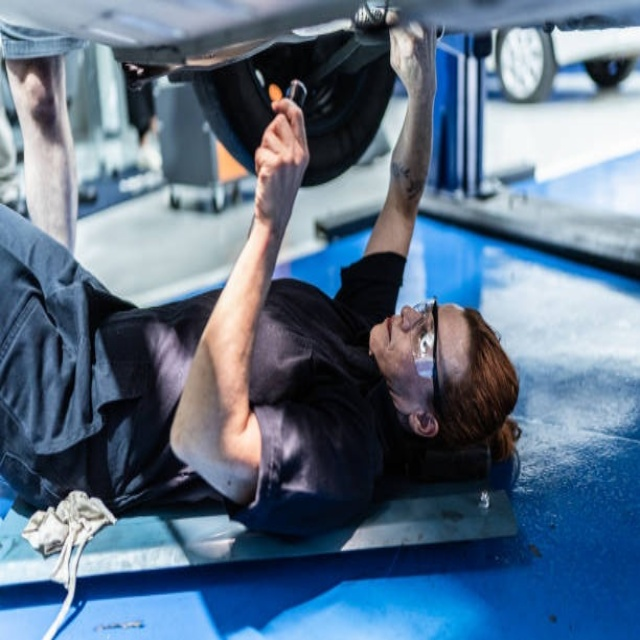Gafas: (409, 298, 437, 384)
Sin_guantes: (249, 95, 312, 238), (380, 9, 443, 97)
Sin_mascara: (369, 307, 403, 357)
